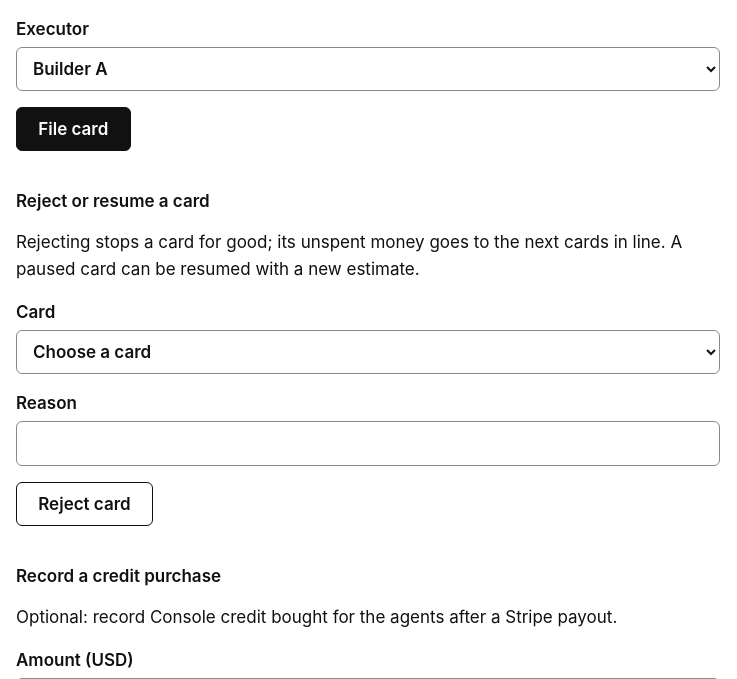
Actions › resumes a paused card with a new estimate and the reason
(page scrolled)
Select "Paused one (paused)" in the dropdown labelled "Card" at (368,352), box [16,330,720,374]
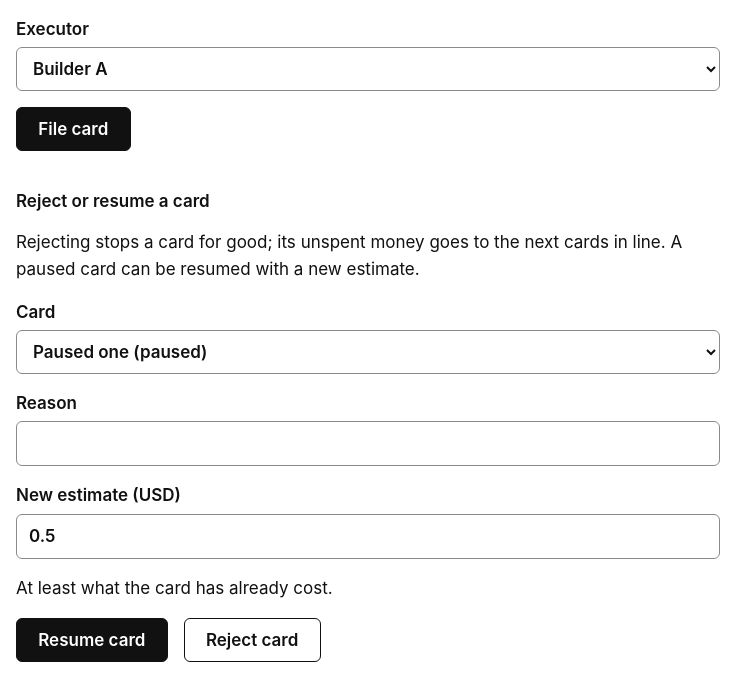
Expected: the number field labelled "New estimate (USD)" holds "0.5"
Replace the text in the number field labelled "New estimate (USD)" with "0.8" at (368,536), box [16,514,720,559]
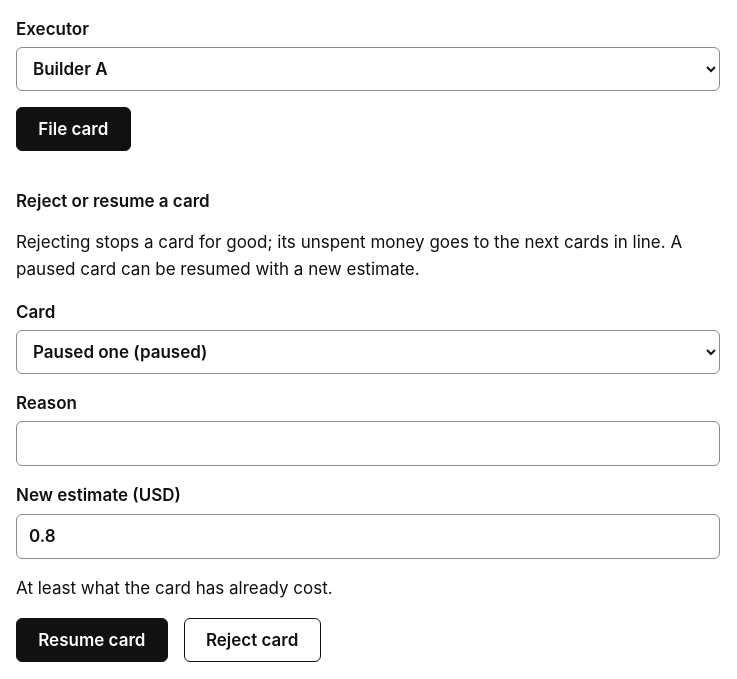
Type "Credit topped up." into the field labelled "Reason" at (368,444), box [16,421,720,466]
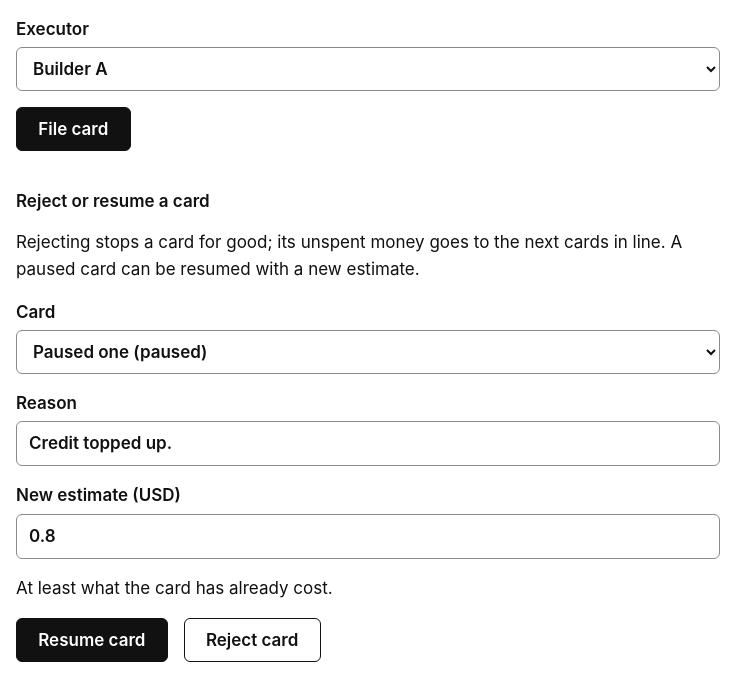
Click the button "Resume card" at (92,640), box [16,618,168,662]
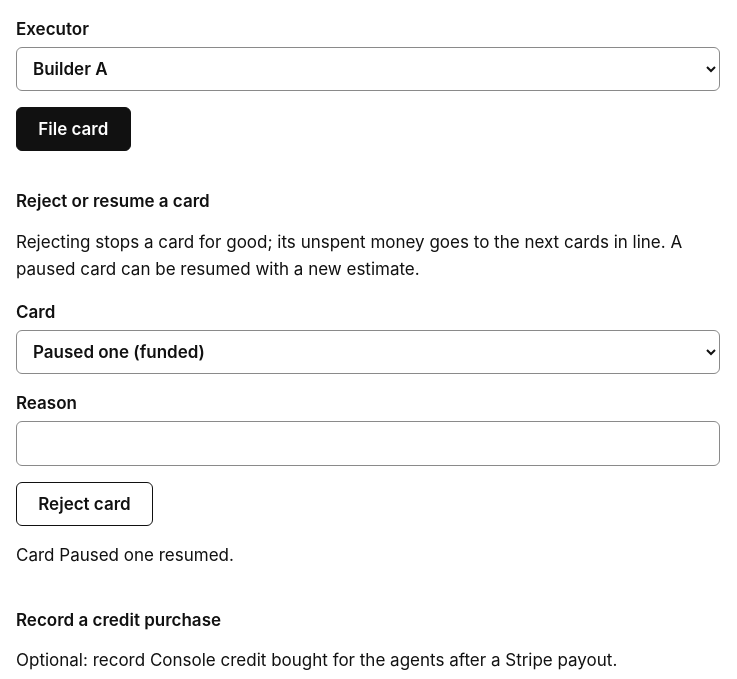
Expected: the message reads "Card Paused one resumed.", [16,545,234,565]
